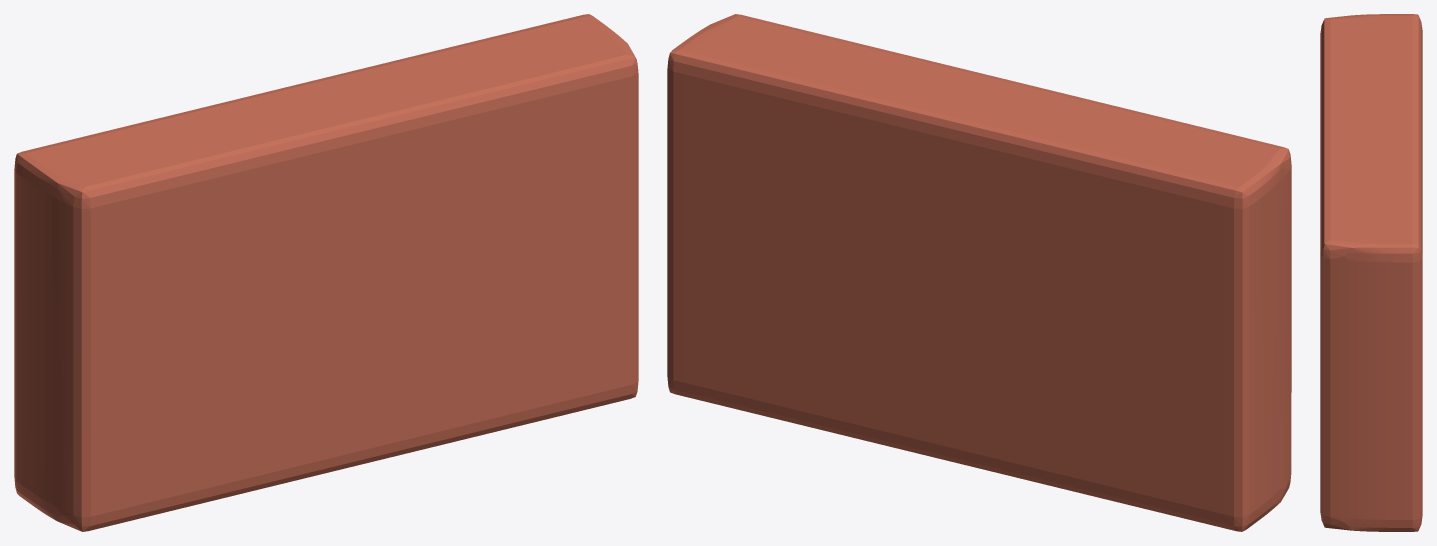
Rendered from pelvis_part_9.obj.
3 views of the same model, side by side, from view 1: azimuth 30°, elevation 25°; view 2: azimuth 150°, elevation 25°; view 3: azimuth 270°, elevation 25° (orthographic). The views are drawn at different scales.
Size of the model in its own units: 0.1405 by 0.0792 by 0.0256.
